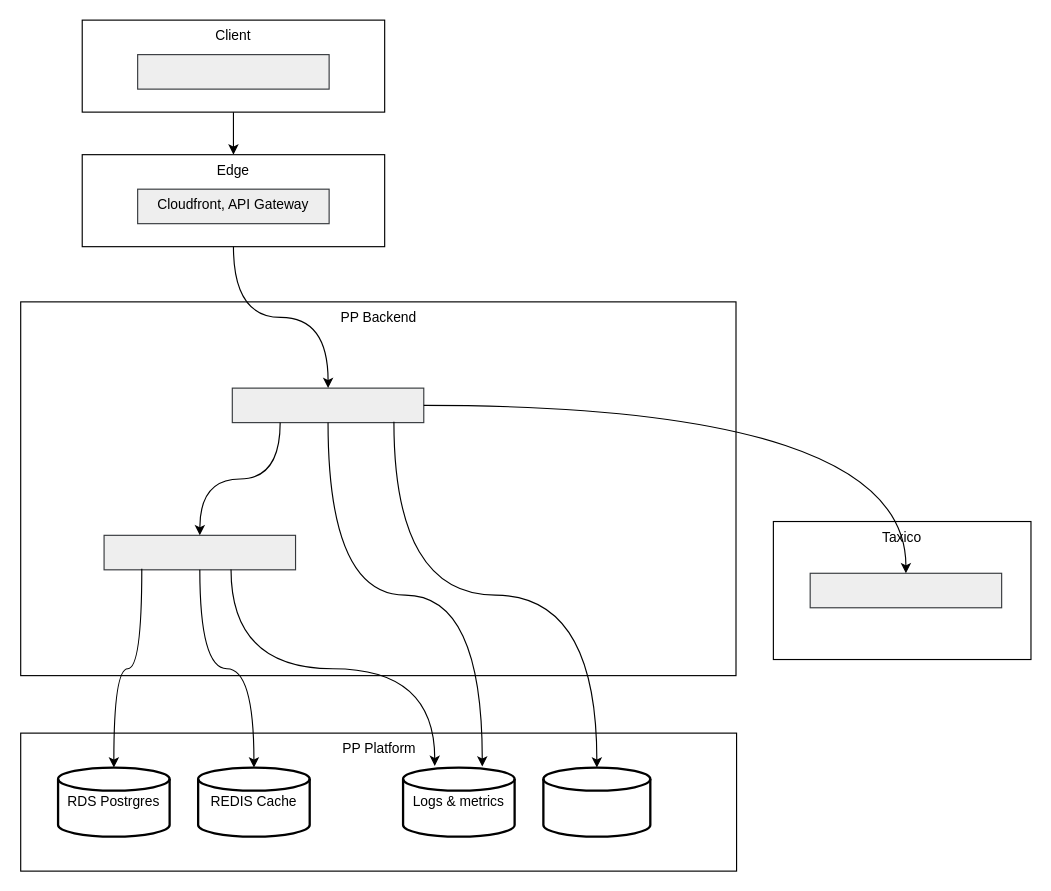
The diagram is 1051 pixels wide and 891 high, and some of its shapes have lost their labels. The shapes that lost their labels are listed below. From the top down, each one's centre as x and y in pixels, then its label:
pixel 233 71: PP Mobile App
pixel 327 405: Mobile API - BFF
pixel 199 552: Member API
pixel 905 590: Taxico APIs
pixel 596 801: Config store
